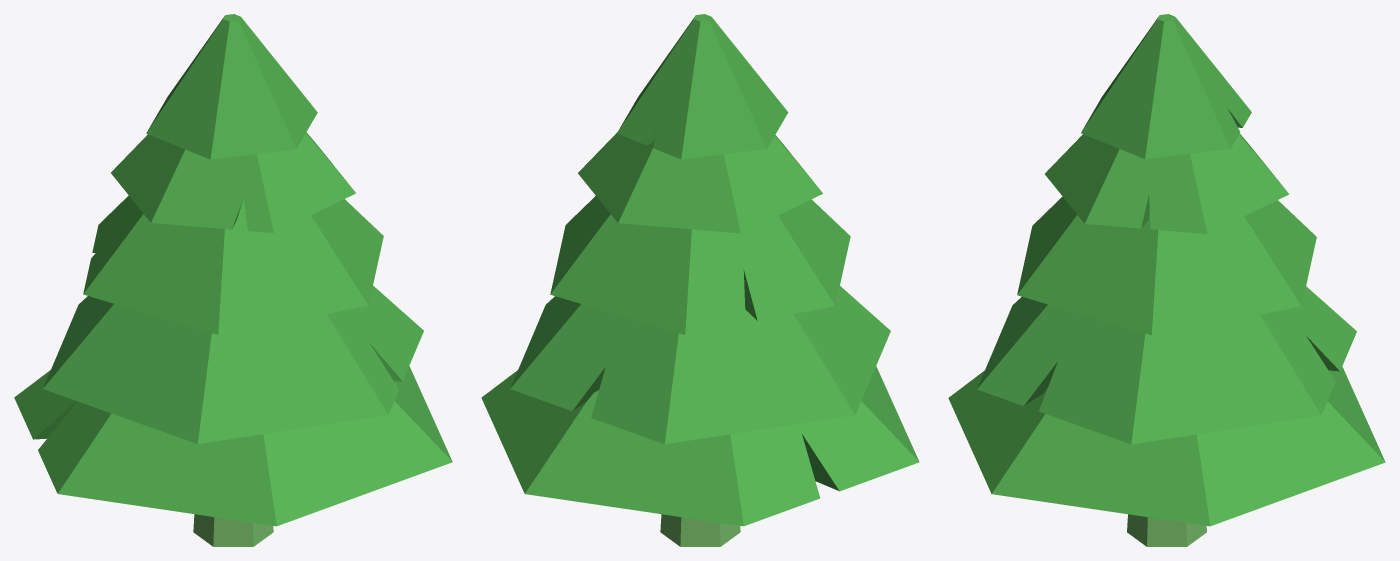
The model's file is pine1.fbx.
3 renders of one model, left to right at view 1: azimuth 30°, elevation 25°; view 2: azimuth 150°, elevation 25°; view 3: azimuth 270°, elevation 25°, orthographic.
Parts seen in each view (by area): view 1: pine 1; view 2: pine 1; view 3: pine 1.
Boxes of the visible parts, x1=… form: pine 1: x1=14, y1=14, x2=452, y2=546; pine 1: x1=481, y1=14, x2=919, y2=546; pine 1: x1=948, y1=14, x2=1385, y2=546.
Bounding box in the file's own units: 1223 × 1522 × 1175.
